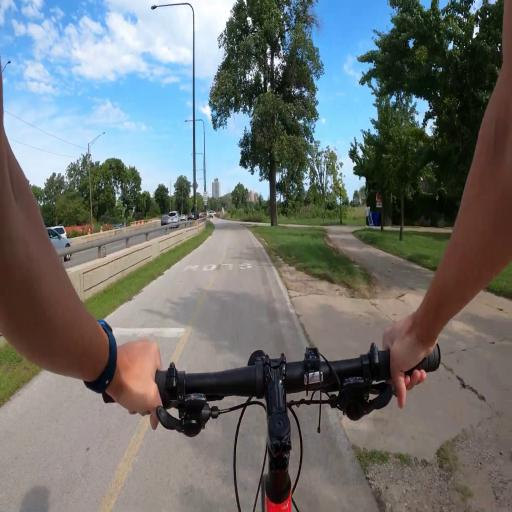Street_Light: (149, 0, 198, 221), (86, 127, 110, 229), (183, 116, 209, 198), (189, 149, 208, 195), (190, 165, 207, 200), (0, 55, 13, 74)
